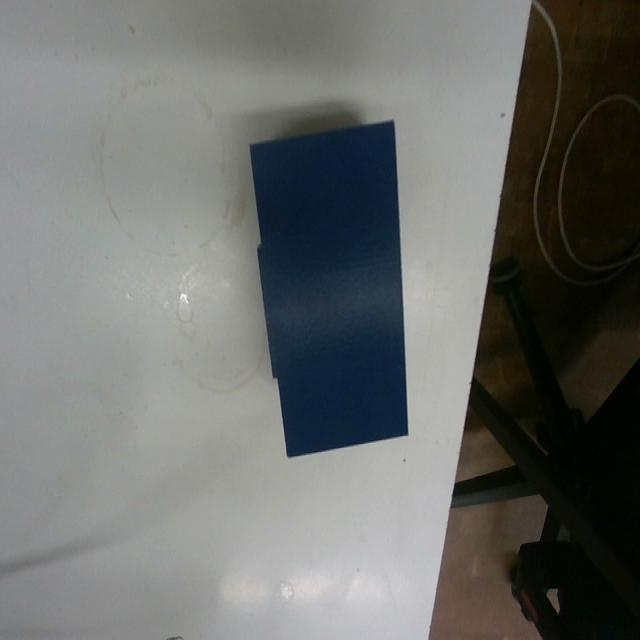Blue Cuboid: (246, 114, 411, 458)
